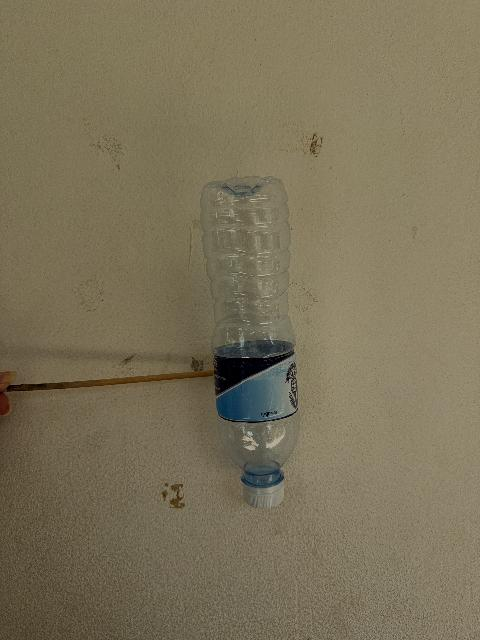bottle: (200, 177, 298, 507)
